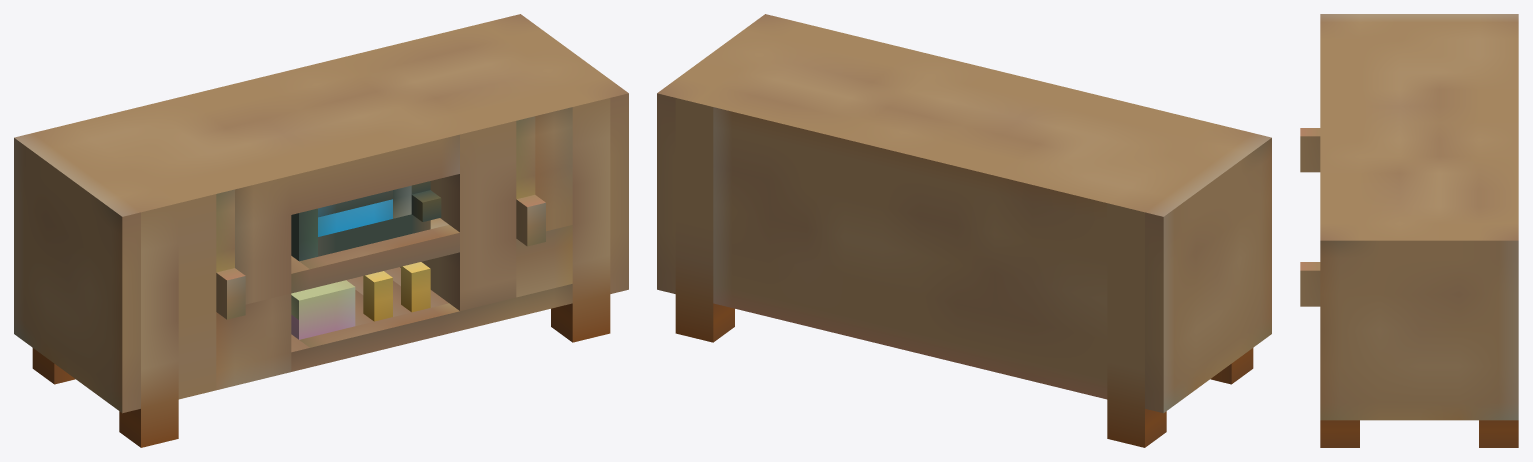
File: CabinetWithVanityItems_00.obj
The picture shows the model from 3 angles, left to right: view 1: azimuth 30°, elevation 25°; view 2: azimuth 150°, elevation 25°; view 3: azimuth 270°, elevation 25°; orthographic projection. The views are drawn at different scales.
Visible parts, largest first — view 1: CabinetWithVanityItems_00; view 2: CabinetWithVanityItems_00; view 3: CabinetWithVanityItems_00.
Part boxes in pixels (left/top/right/bottom): CabinetWithVanityItems_00: left=14, top=14, right=628, bottom=447; CabinetWithVanityItems_00: left=657, top=14, right=1271, bottom=447; CabinetWithVanityItems_00: left=1300, top=14, right=1518, bottom=447.
Bounding box in the file's own units: 1.35 × 0.6 × 0.55.
